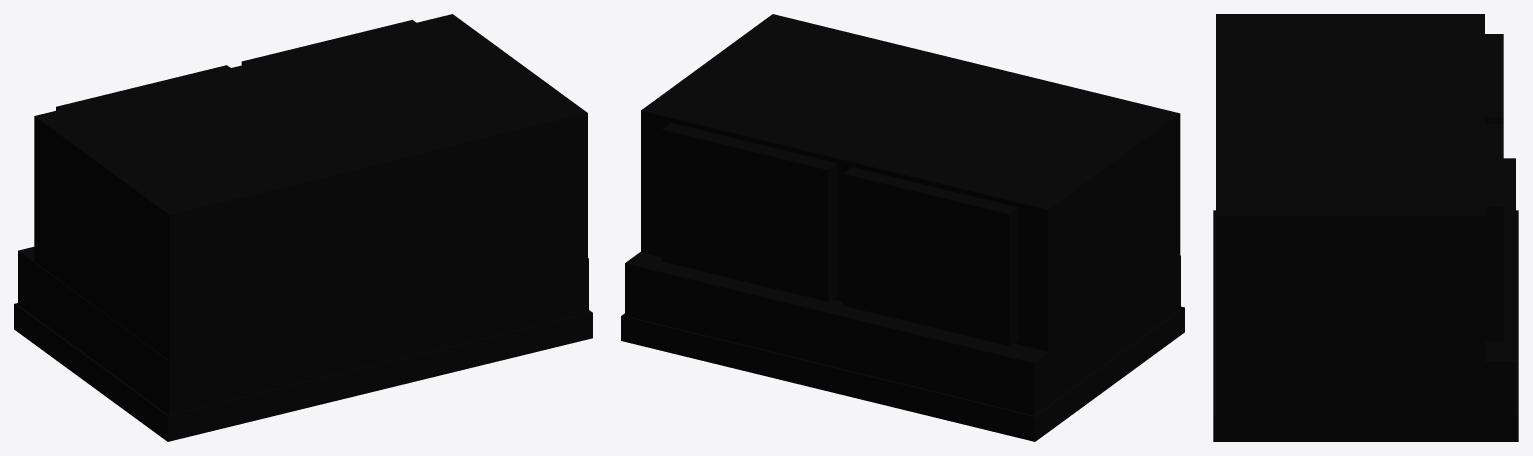
The model's file is xuantie_boots.obj.
The picture shows the model from 3 angles, left to right: view 1: azimuth 30°, elevation 25°; view 2: azimuth 150°, elevation 25°; view 3: azimuth 270°, elevation 25°; orthographic projection. The views are drawn at different scales.
Visible parts, largest first — view 1: geometry; view 2: geometry; view 3: geometry.
Boxes of the visible parts, box(x1,y1,x2,y2) form: geometry: box(14, 14, 592, 441); geometry: box(621, 14, 1184, 441); geometry: box(1213, 14, 1518, 441).
Bounding box in the file's own units: 0.5437 × 0.275 × 0.3406.
